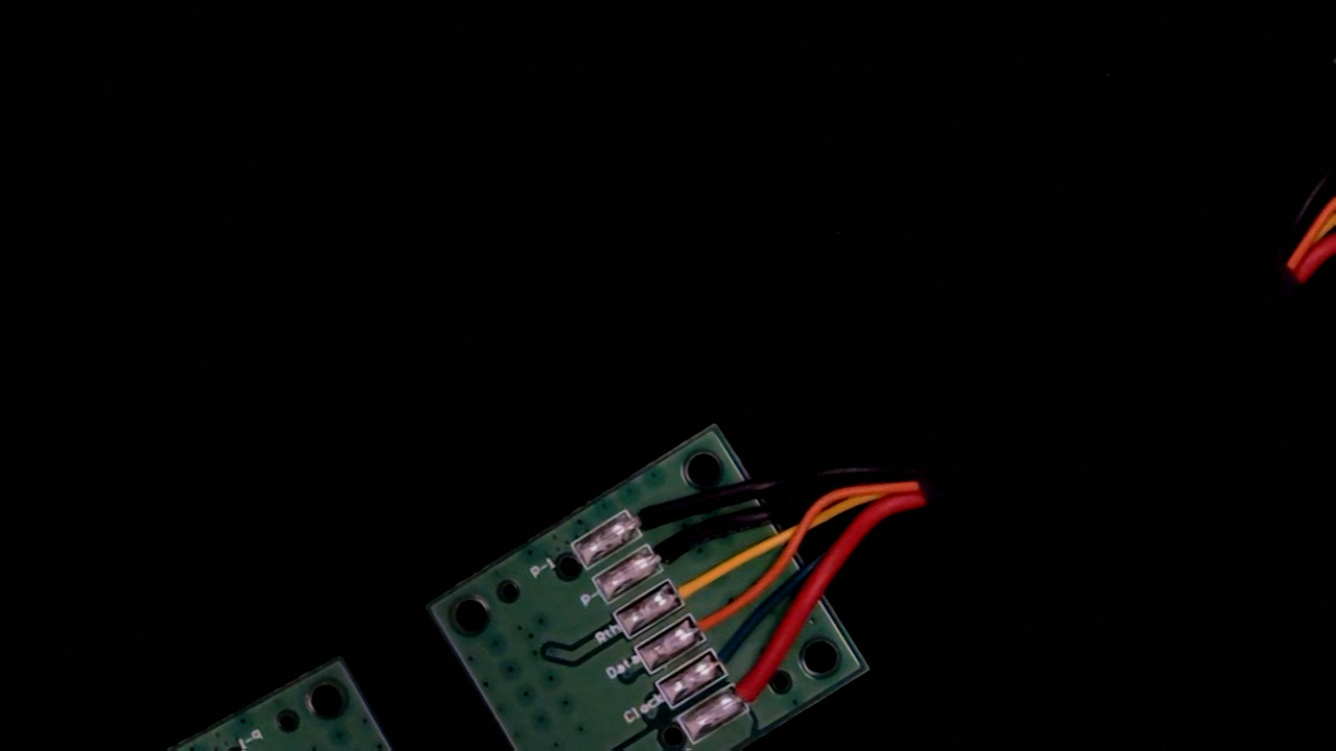Black: (636, 518, 709, 579)
Black1: (613, 480, 691, 545)
Green: (696, 629, 761, 686)
Orange: (675, 589, 750, 652)
Red: (717, 657, 793, 722)
Yellow: (655, 554, 729, 616)
